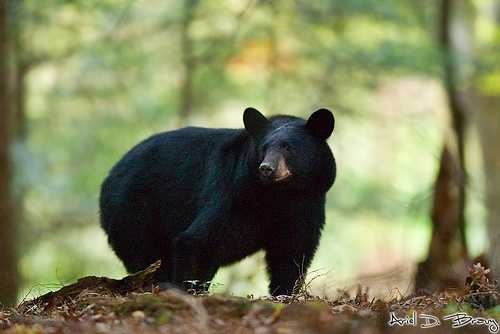bear: (223, 97, 352, 225)
